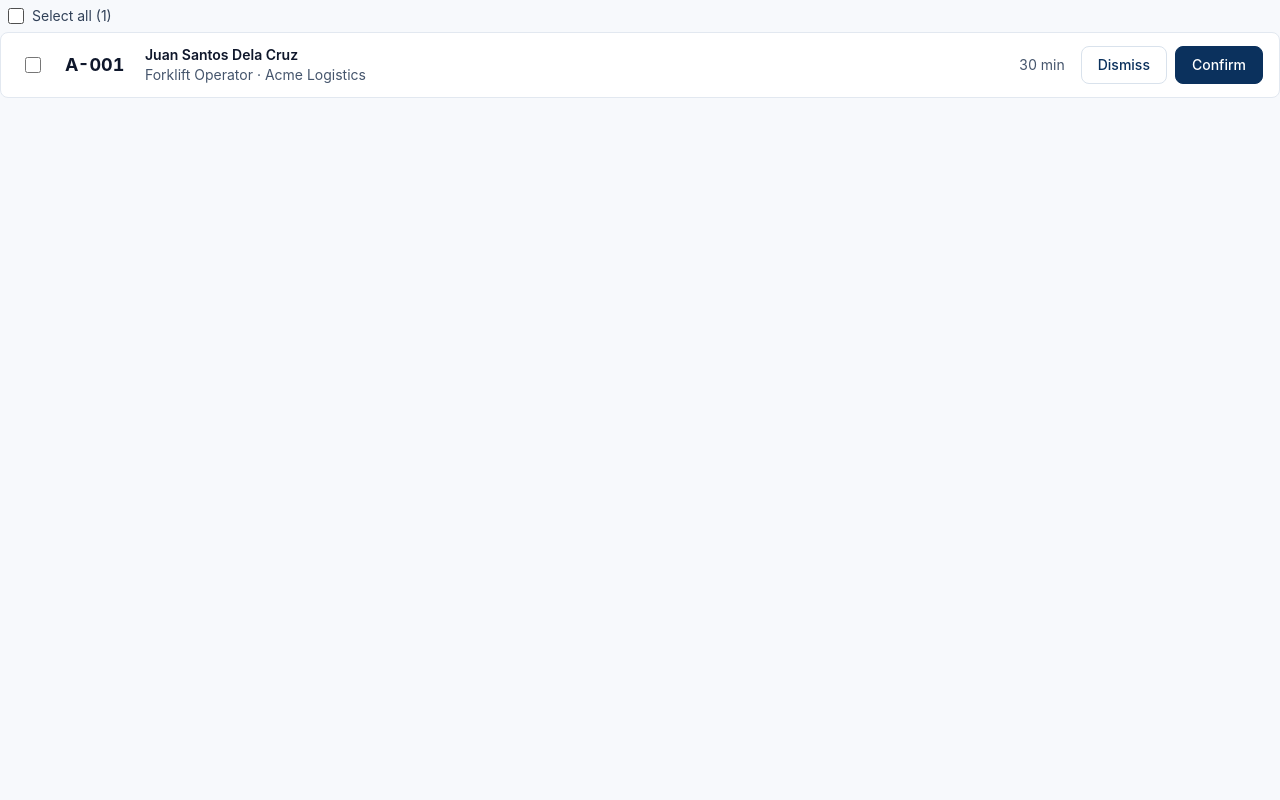
Scenario: CheckInsPanel: dismiss › asks for a reason and does not dismiss without one
Click the button with aria-label "Dismiss A-001".
click(1124, 65)  # box [1081,46,1167,84]
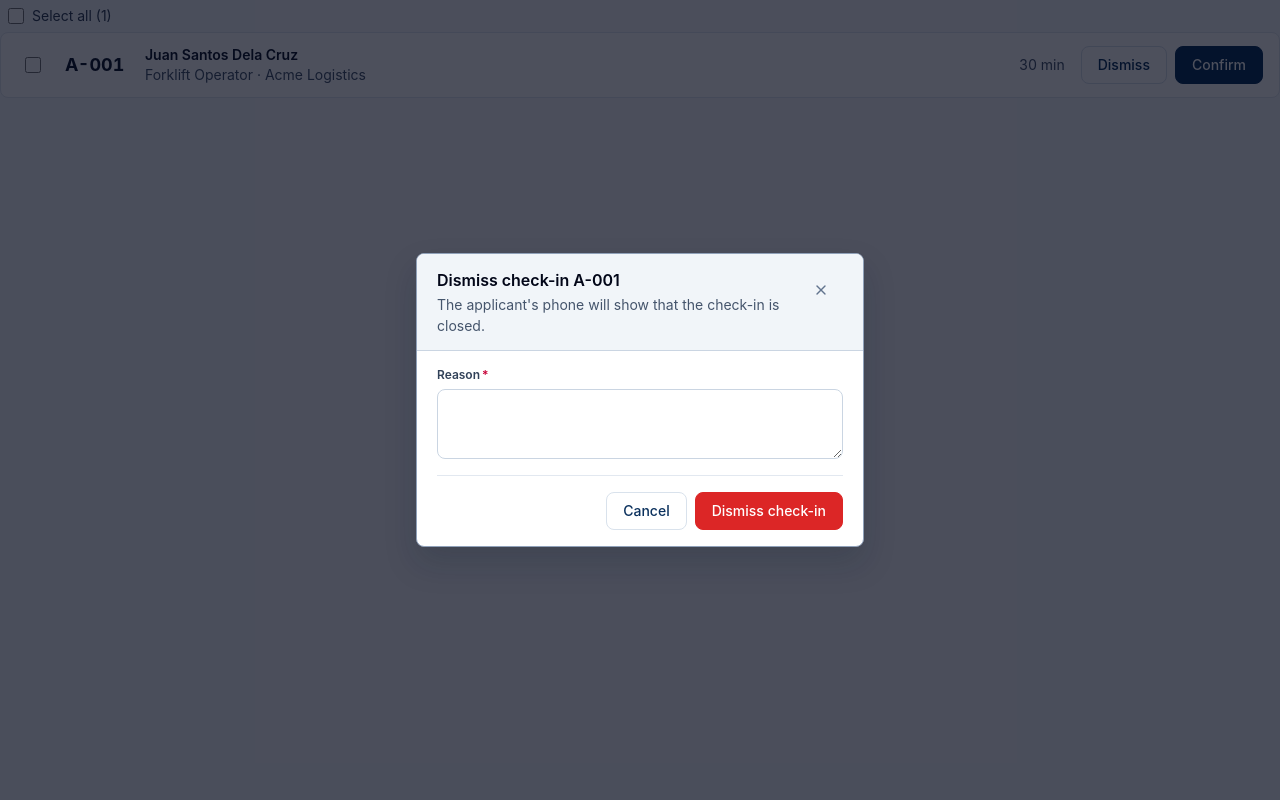
Now the heading "Dismiss check-in A-001" is shown, box [437,270,620,290]
Click the button "Dismiss check-in".
click(769, 511)  # box [695,492,843,530]
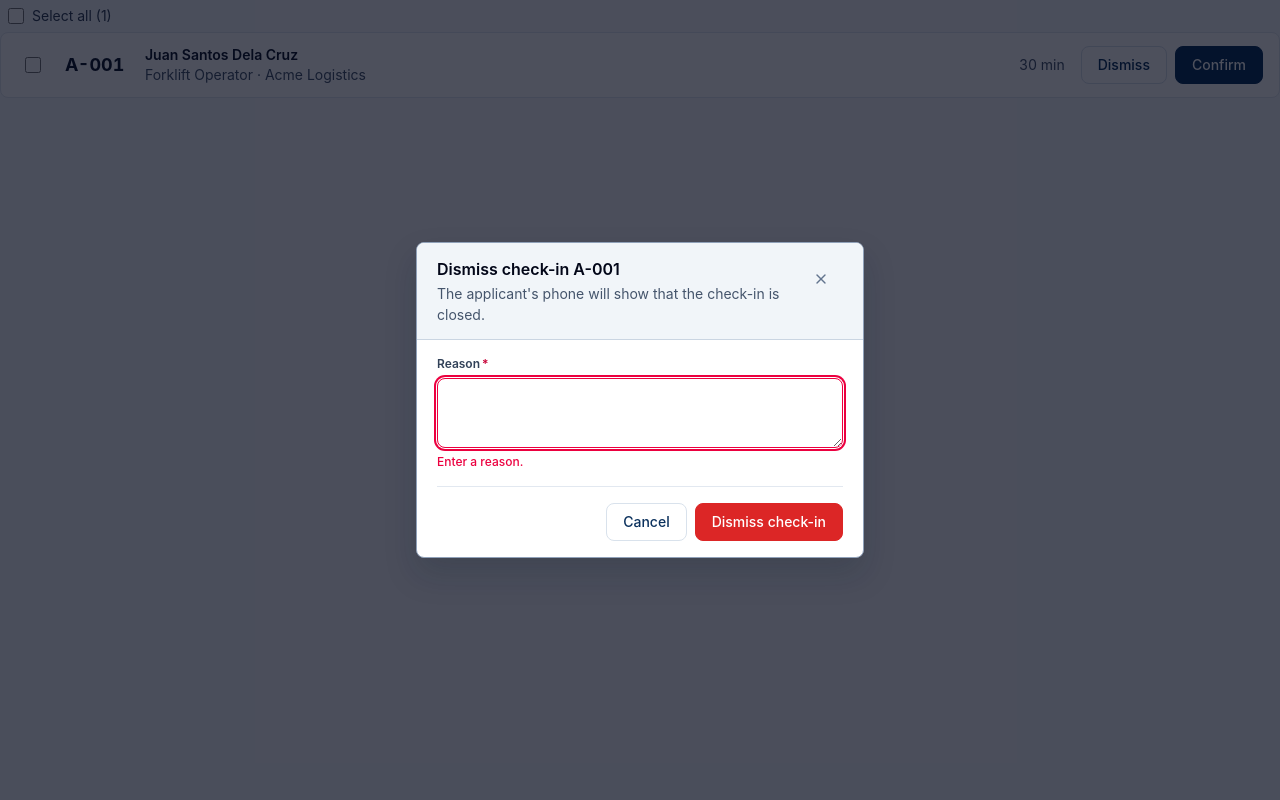
Now the text "Enter a reason." is shown, box [437,454,523,469]
